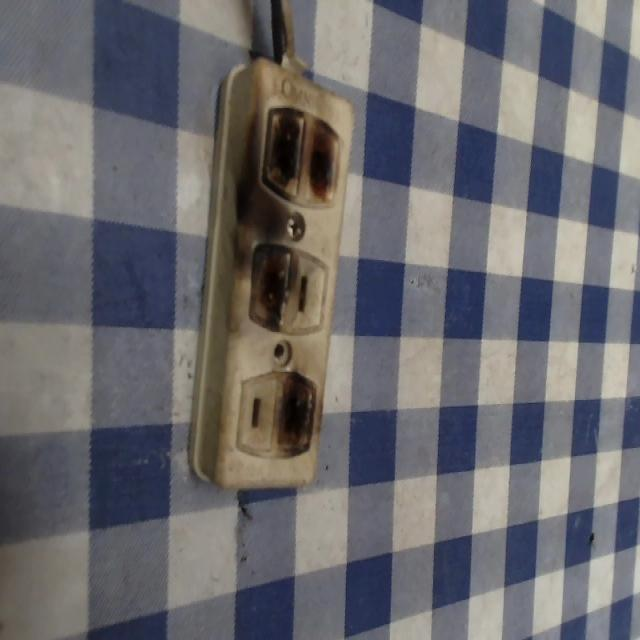-: (261, 102, 343, 210), (242, 229, 300, 336), (271, 368, 318, 456)
